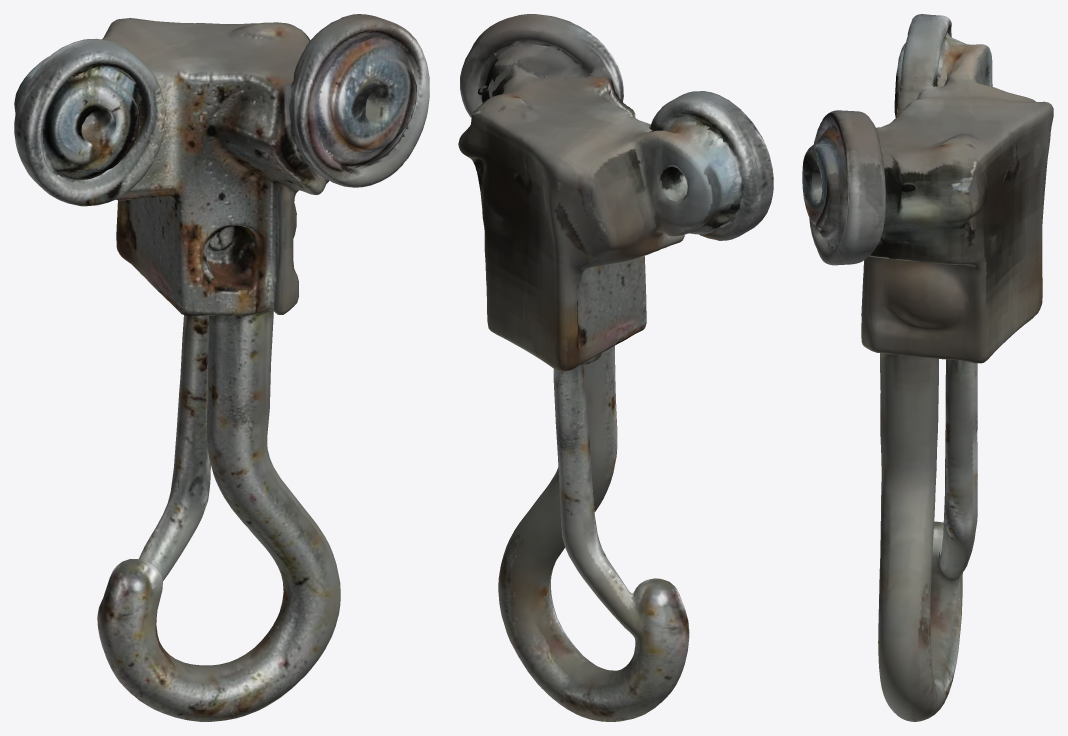
The model's file is rail-trolley-hook.glb.
The picture shows the model from 3 angles, left to right: view 1: azimuth 30°, elevation 25°; view 2: azimuth 150°, elevation 25°; view 3: azimuth 270°, elevation 25°; orthographic projection. The views are drawn at different scales.
Parts seen in each view (by area): view 1: cowninja-rail-trolley-hook; view 2: cowninja-rail-trolley-hook; view 3: cowninja-rail-trolley-hook.
Part boxes in pixels (x1,y1,x2,y2): cowninja-rail-trolley-hook: (14, 14, 429, 721); cowninja-rail-trolley-hook: (458, 14, 773, 721); cowninja-rail-trolley-hook: (802, 14, 1053, 721).
Bounding box in the file's own units: 0.2729 × 0.5001 × 0.1788.
1 material, 1 textured.
